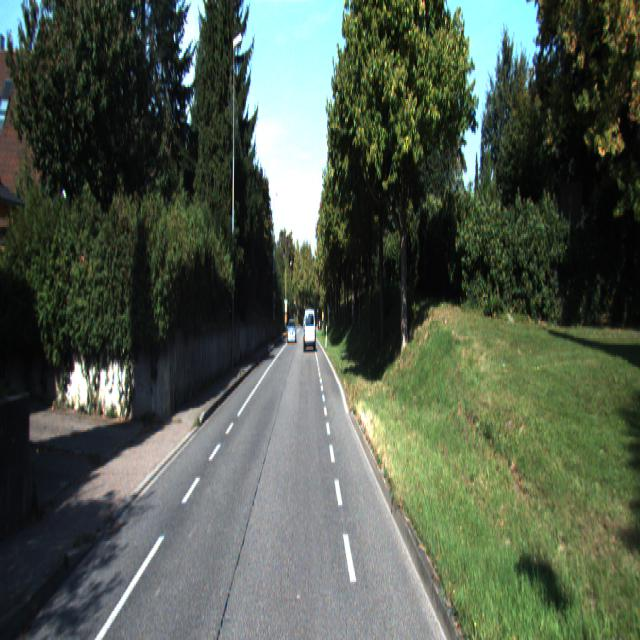Car: (303, 308, 316, 352), (287, 320, 296, 346)
